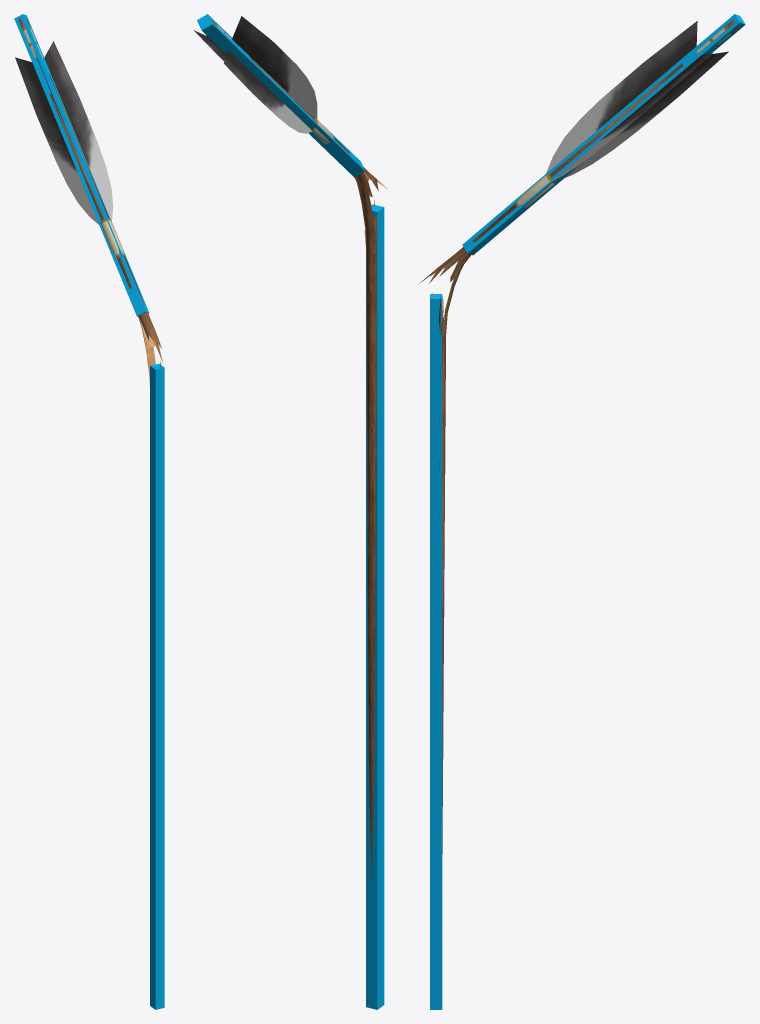
File: JWC_Arrow_A_05.fbx
3 renders of one model, left to right at view 1: azimuth 30°, elevation 25°; view 2: azimuth 150°, elevation 25°; view 3: azimuth 270°, elevation 25°, orthographic. The views are drawn at different scales.
Parts seen in each view (by area): view 1: C_JWC_Arrow_A_05, JWC_Arrow_A_05, C_JWC_Arrow_A_05_001; view 2: JWC_Arrow_A_05, C_JWC_Arrow_A_05, C_JWC_Arrow_A_05_001; view 3: JWC_Arrow_A_05, C_JWC_Arrow_A_05, C_JWC_Arrow_A_05_001.
Boxes of the visible parts, left/top/right/bottom form: C_JWC_Arrow_A_05: left=150, top=363, right=164, bottom=1009; JWC_Arrow_A_05: left=15, top=17, right=162, bottom=384; C_JWC_Arrow_A_05_001: left=14, top=14, right=149, bottom=316; JWC_Arrow_A_05: left=193, top=16, right=387, bottom=879; C_JWC_Arrow_A_05: left=366, top=204, right=384, bottom=1009; C_JWC_Arrow_A_05_001: left=197, top=14, right=365, bottom=177; JWC_Arrow_A_05: left=419, top=19, right=740, bottom=942; C_JWC_Arrow_A_05: left=430, top=294, right=442, bottom=1009; C_JWC_Arrow_A_05_001: left=462, top=14, right=745, bottom=255.
Bounding box in the file's own units: 0.0394 × 0.9645 × 0.289.
